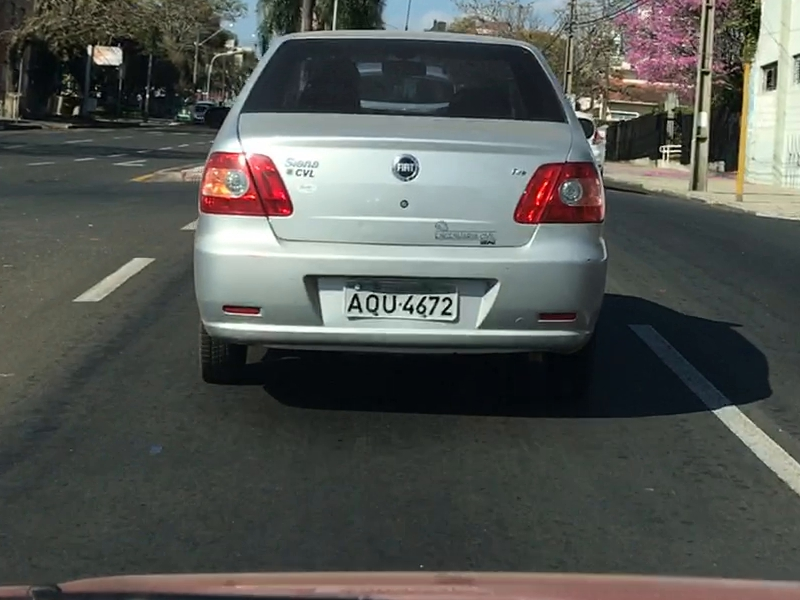placa: (343, 280, 458, 321)
